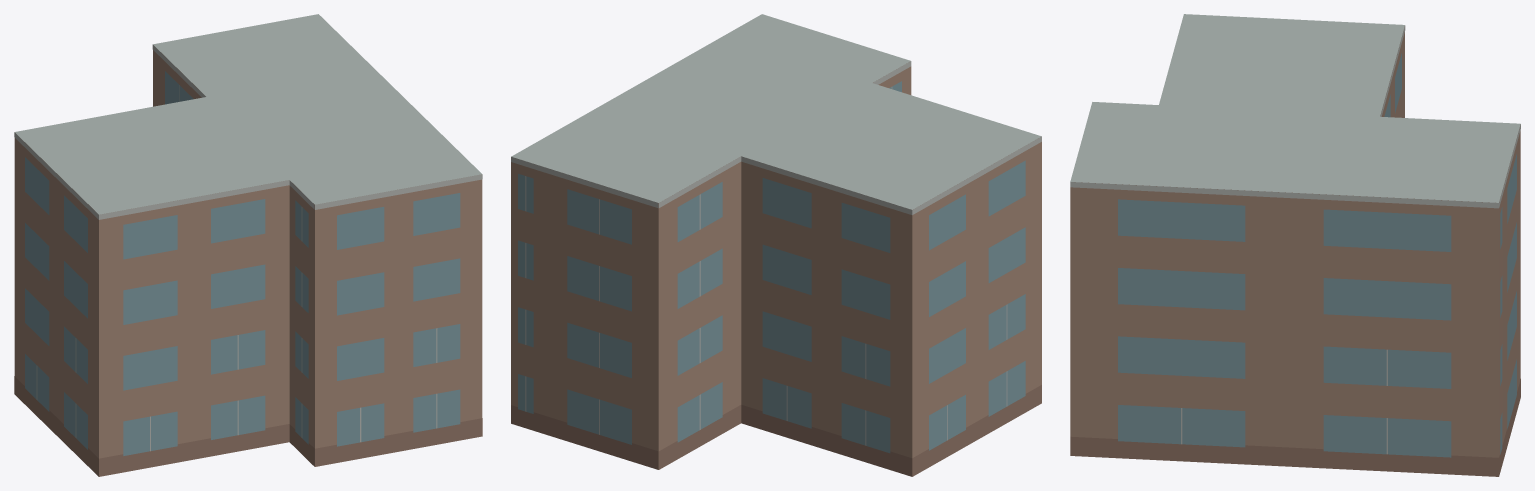
Rendered from residential-f2132a1b-5437-4f90-abdd-987d9f01c8c8.glb.
3 views of the same model, side by side, from view 1: azimuth 30°, elevation 25°; view 2: azimuth 150°, elevation 25°; view 3: azimuth 270°, elevation 25° (orthographic). The views are drawn at different scales.
Visible parts, largest first — view 1: residential-f2132a1b-5437-4f90-abdd-987d9f01c8c8.tmp; view 2: residential-f2132a1b-5437-4f90-abdd-987d9f01c8c8.tmp; view 3: residential-f2132a1b-5437-4f90-abdd-987d9f01c8c8.tmp.
Boxes of the visible parts, box(x1,y1,x2,y2) form: residential-f2132a1b-5437-4f90-abdd-987d9f01c8c8.tmp: box(14, 14, 482, 476); residential-f2132a1b-5437-4f90-abdd-987d9f01c8c8.tmp: box(511, 14, 1041, 476); residential-f2132a1b-5437-4f90-abdd-987d9f01c8c8.tmp: box(1070, 14, 1520, 476).
Bounding box in the file's own units: 18.05 × 12.2 × 18.19.
